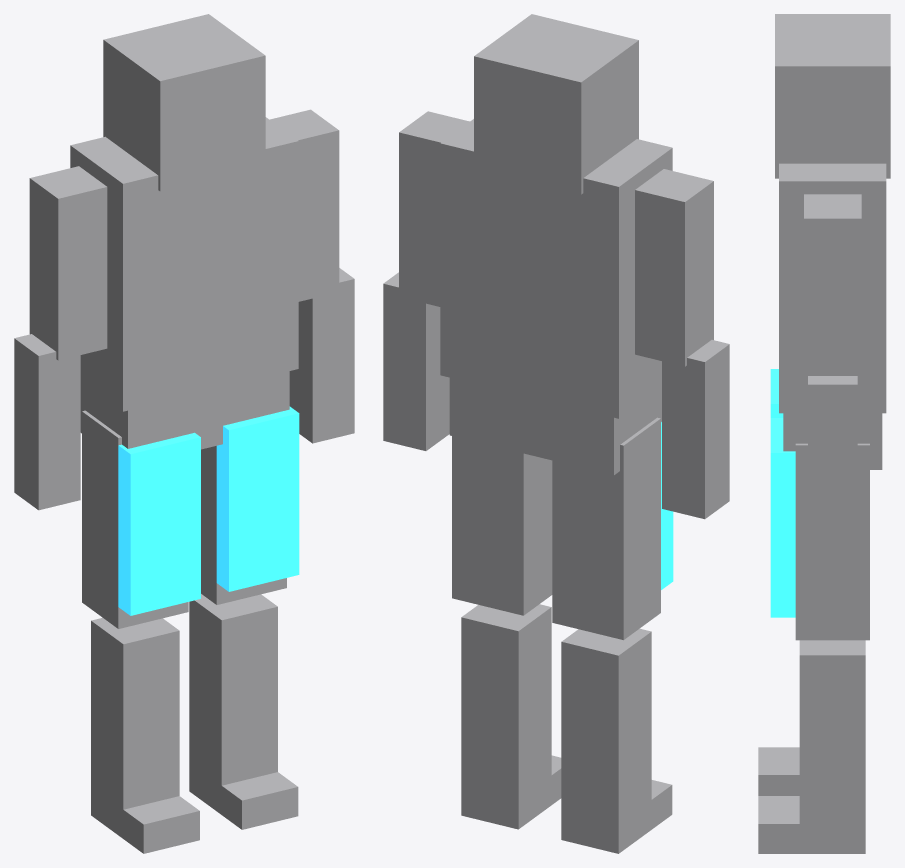
The model's file is quads.glb.
3 views of the same model, side by side, from view 1: azimuth 30°, elevation 25°; view 2: azimuth 150°, elevation 25°; view 3: azimuth 270°, elevation 25° (orthographic).
Parts seen in each view (by area): view 1: Mannequin; view 2: Mannequin; view 3: Mannequin.
Part boxes in pixels (x1=…): Mannequin: x1=14, y1=14, x2=354, y2=853; Mannequin: x1=383, y1=14, x2=729, y2=853; Mannequin: x1=758, y1=14, x2=890, y2=853.
Bounding box in the file's own units: 0.9 × 2.07 × 0.32.
